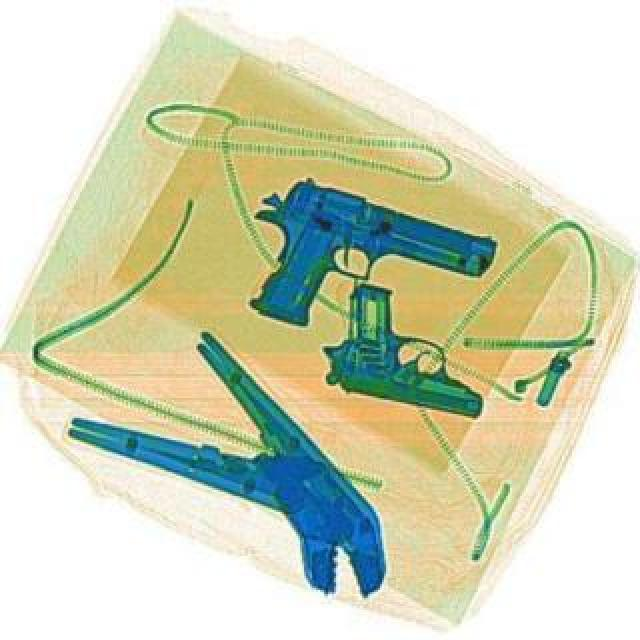gun: (222, 166, 500, 374), (312, 276, 508, 422)
